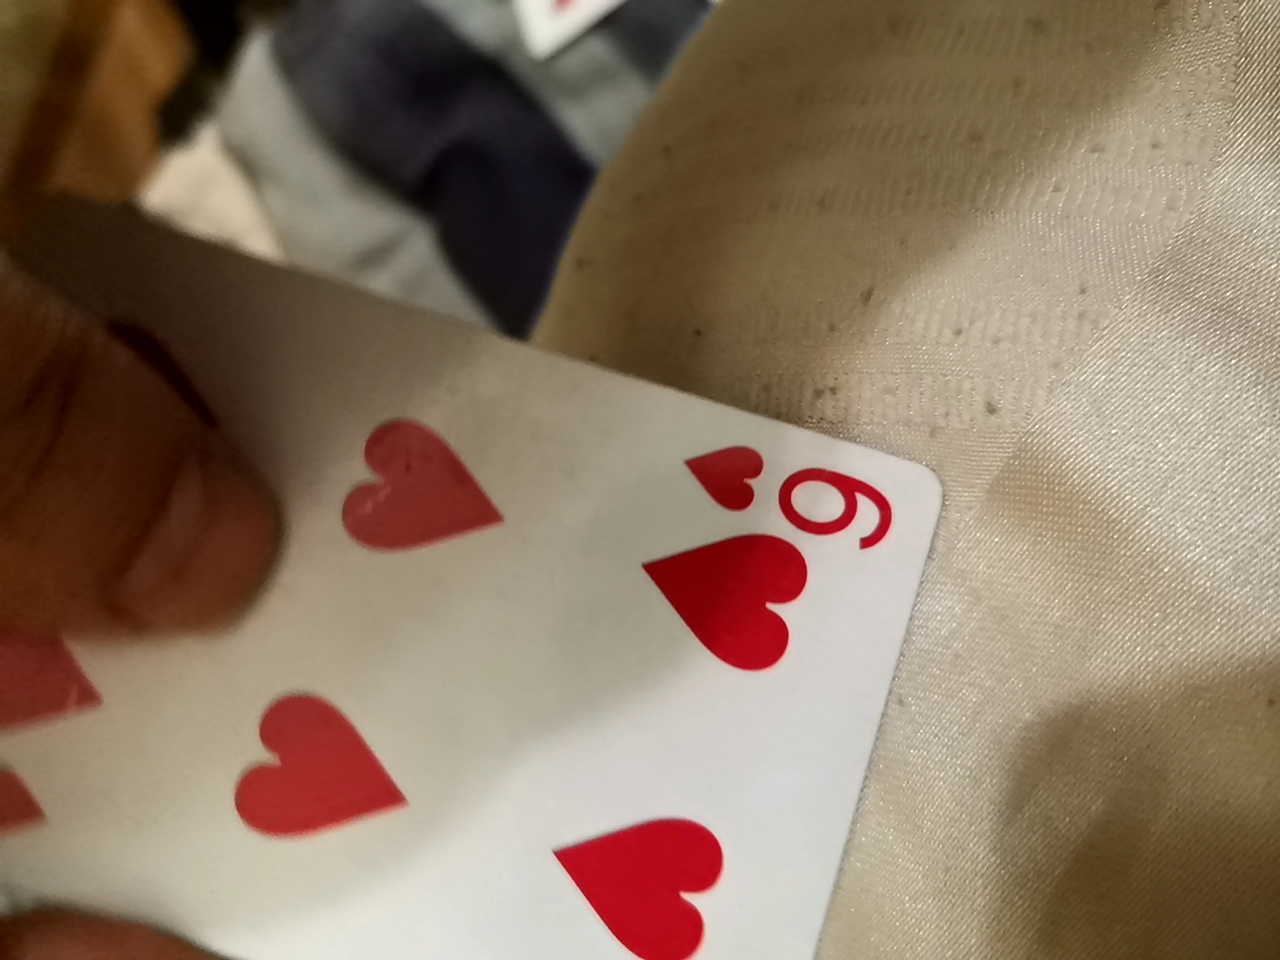hx 6: (11, 178, 977, 960)
